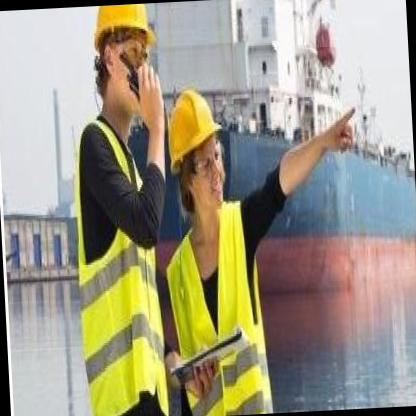helmet: (160, 70, 232, 235), (84, 2, 162, 114)
